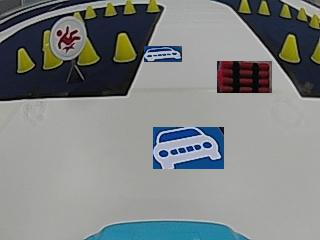cone: (113, 32, 136, 64), (279, 34, 302, 64), (77, 42, 101, 65), (16, 47, 36, 73), (41, 46, 60, 71), (85, 3, 98, 20), (259, 0, 272, 17), (144, 1, 161, 13), (306, 12, 318, 29), (124, 0, 136, 16), (105, 3, 118, 17), (281, 4, 293, 19), (240, 0, 251, 15)
tumble: (52, 20, 88, 58)
